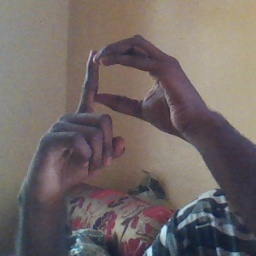P: (50, 33, 199, 176)
